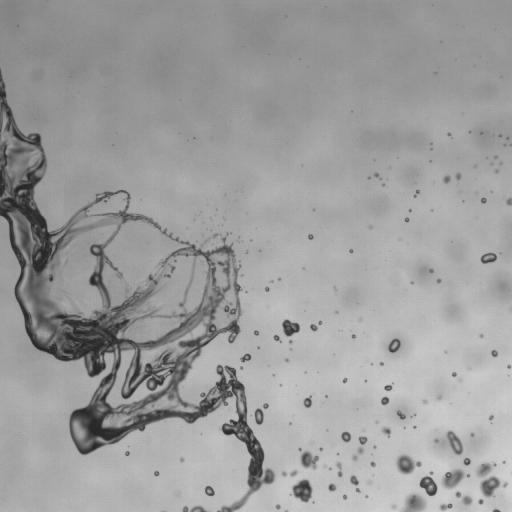droplet: (476, 462, 507, 497), (440, 468, 469, 489), (290, 478, 312, 502), (396, 454, 421, 474), (400, 492, 426, 511), (419, 471, 437, 495), (282, 319, 300, 337), (300, 451, 318, 469), (480, 252, 497, 263), (388, 338, 400, 353), (253, 408, 263, 424), (310, 321, 321, 331), (341, 431, 351, 442), (439, 503, 452, 511), (240, 353, 251, 362), (302, 396, 311, 407), (381, 427, 391, 436), (205, 486, 214, 495), (350, 475, 358, 485), (381, 397, 389, 405), (397, 411, 405, 419), (328, 483, 336, 491), (443, 175, 450, 183), (384, 384, 392, 391), (463, 458, 470, 465), (274, 335, 280, 342), (455, 173, 461, 179), (491, 350, 497, 356), (506, 198, 511, 205), (481, 197, 486, 203), (352, 454, 357, 460), (370, 461, 375, 467), (478, 498, 483, 504), (308, 234, 313, 239), (436, 278, 441, 283), (263, 403, 268, 408), (212, 233, 218, 237), (405, 217, 409, 222), (429, 268, 433, 273), (254, 330, 258, 335), (343, 378, 347, 383), (437, 395, 442, 399), (423, 399, 427, 404), (154, 471, 158, 476), (343, 494, 347, 499), (276, 504, 280, 509), (392, 504, 396, 509), (265, 287, 269, 291), (452, 372, 456, 376), (489, 415, 493, 419), (434, 438, 438, 442), (125, 451, 129, 455), (356, 488, 360, 492), (349, 249, 352, 253), (351, 335, 355, 338), (285, 358, 288, 362), (507, 365, 511, 368), (495, 169, 498, 172), (113, 286, 116, 289), (480, 334, 483, 337), (289, 340, 292, 343), (180, 458, 183, 461), (368, 481, 371, 484), (448, 133, 450, 136), (382, 183, 384, 186), (278, 278, 281, 280), (380, 362, 382, 365), (471, 433, 473, 436), (319, 448, 322, 450), (369, 226, 371, 228), (65, 262, 67, 264), (411, 282, 413, 284), (335, 311, 337, 313), (240, 367, 242, 369)
ligament: (0, 69, 275, 511), (446, 430, 463, 454), (455, 492, 472, 504), (357, 436, 367, 454), (182, 505, 208, 511), (281, 469, 297, 476), (336, 462, 342, 477), (374, 172, 381, 179), (414, 190, 419, 197), (205, 238, 209, 242), (492, 509, 500, 511)
